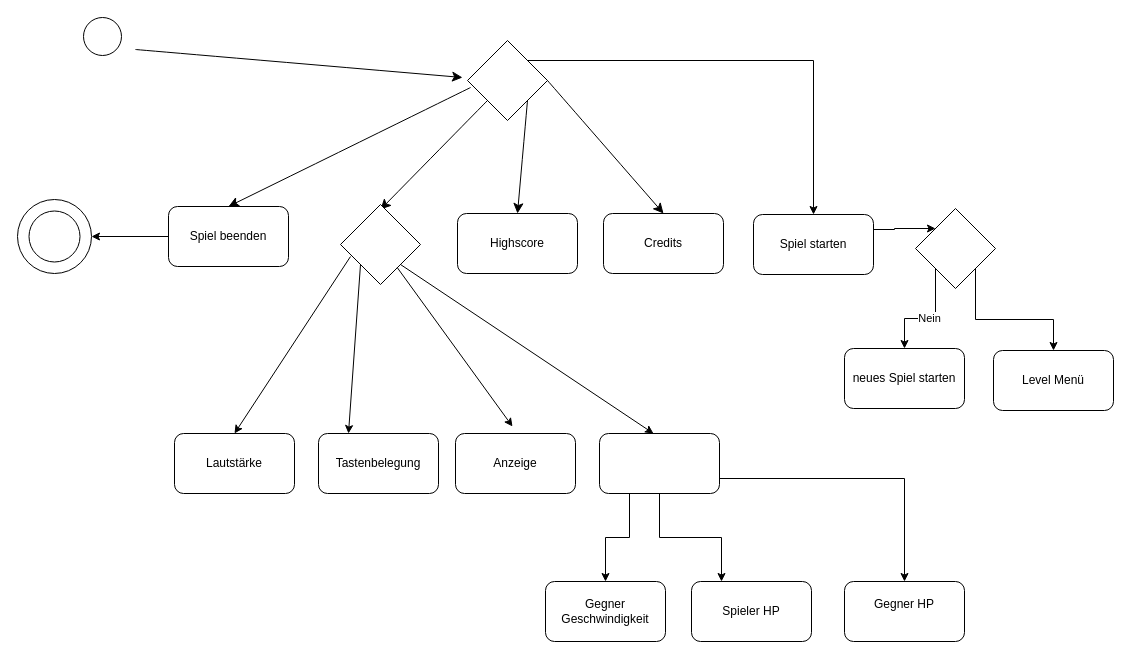
Image size: 1131x659. Some labels were removed from this diagram. Here are the shapes that lost their labels. From the top down, the centre of each, then its label:
(x=507, y=80): Hauptmenü
(x=380, y=244): Optionen
(x=955, y=248): Level freigeschaltet?
(x=659, y=463): Schwierigkeit
